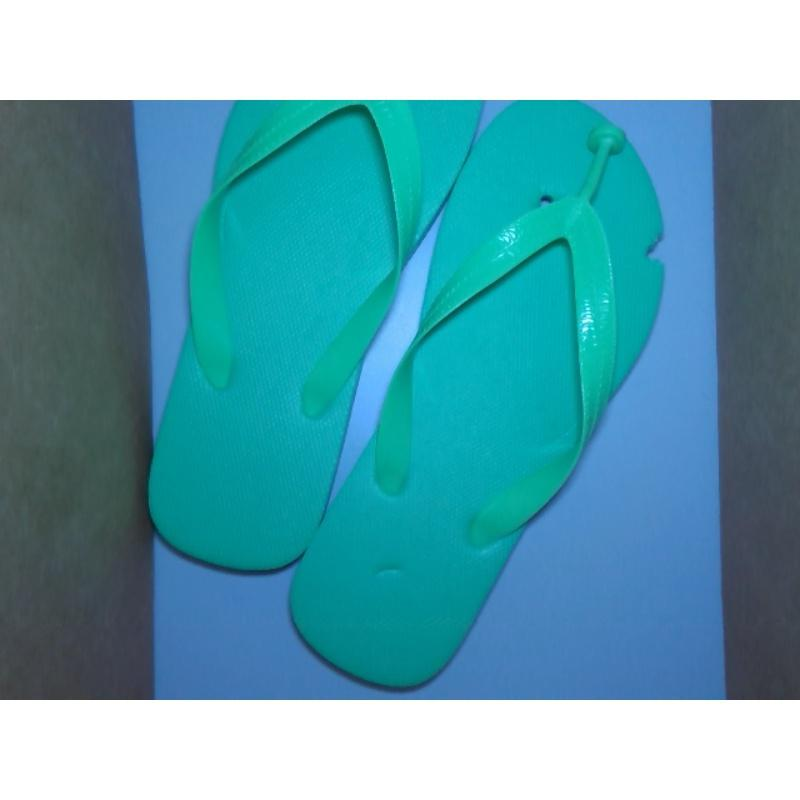chipped: (633, 216, 685, 302)
detached: (579, 119, 637, 185)
